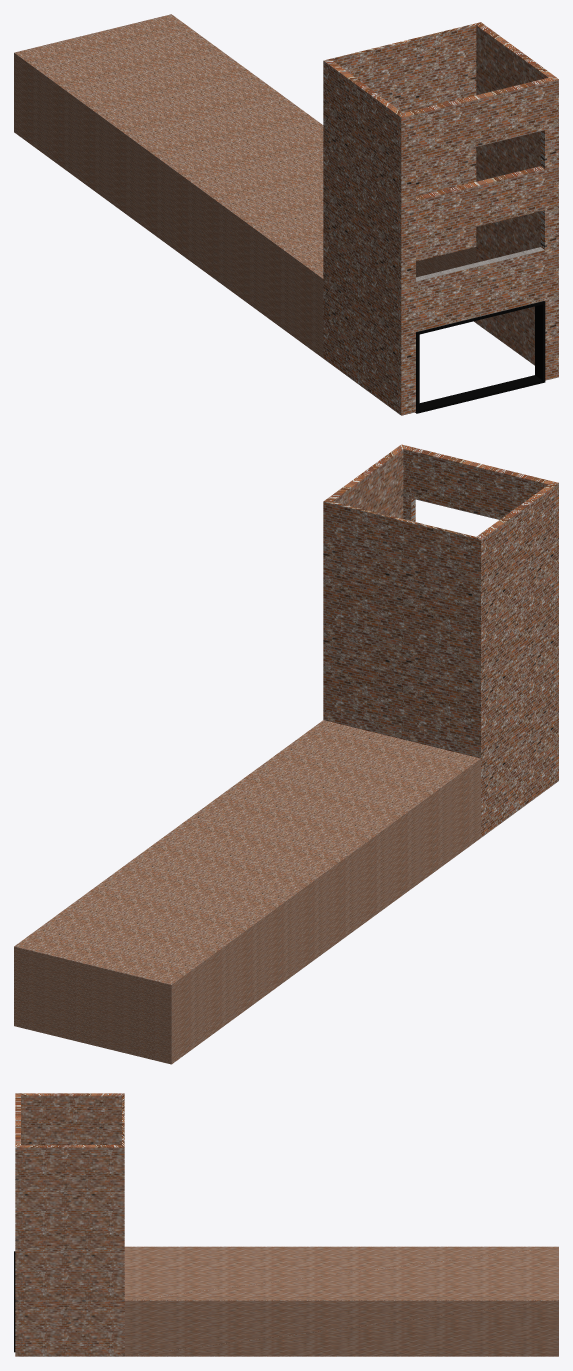
File: lobby2.fbx
3 views of the same model, one above another, from view 1: azimuth 30°, elevation 25°; view 2: azimuth 150°, elevation 25°; view 3: azimuth 270°, elevation 25° (orthographic). The views are drawn at different scales.
Visible parts, largest first — view 1: this, this_2; view 2: this; view 3: this.
Part boxes in pixels (box(x1,y1,x2,y2)): this: box(14, 14, 558, 415); this_2: box(415, 301, 545, 413); this: box(14, 444, 558, 1064); this: box(15, 1093, 558, 1356).
Size of the model in its own units: 26.21 by 47.54 by 112.
Materials: 2 (1 with a texture image).
